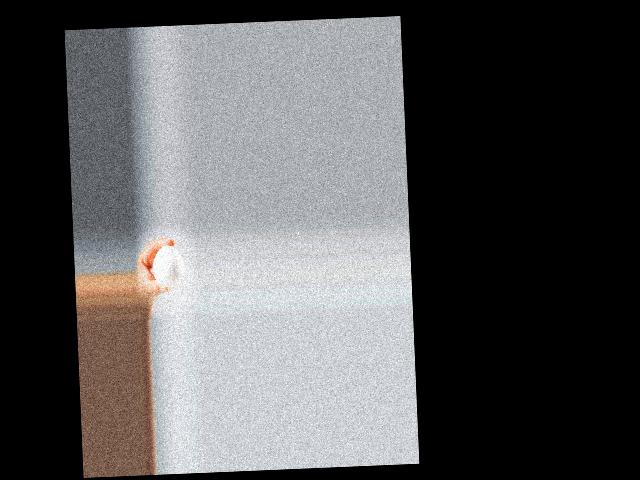egg: (151, 244, 184, 286)
